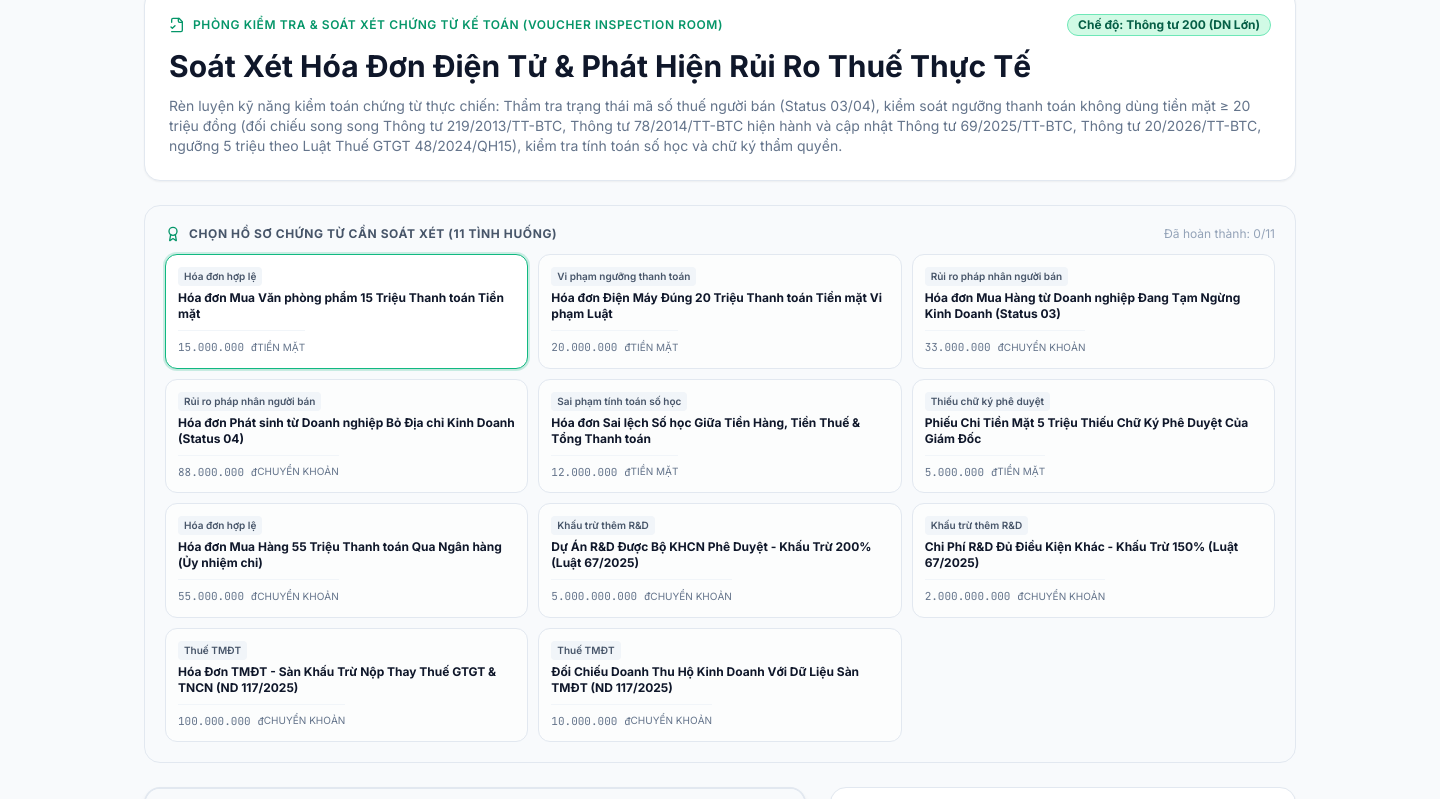
COMPREHENSIVE TAX COMPLIANCE & FRAUD GUARDRAILS (MILESTONE 5 / R5) › 5. VoucherInspector Workbench Integration › should display VAT input and CIT Schedule B4 breakdown cards upon audit completion
Click the text "Hóa đơn Điện Máy Đúng 20 Triệu": x=720, y=306 551,290 -> 889,322
(page scrolled)
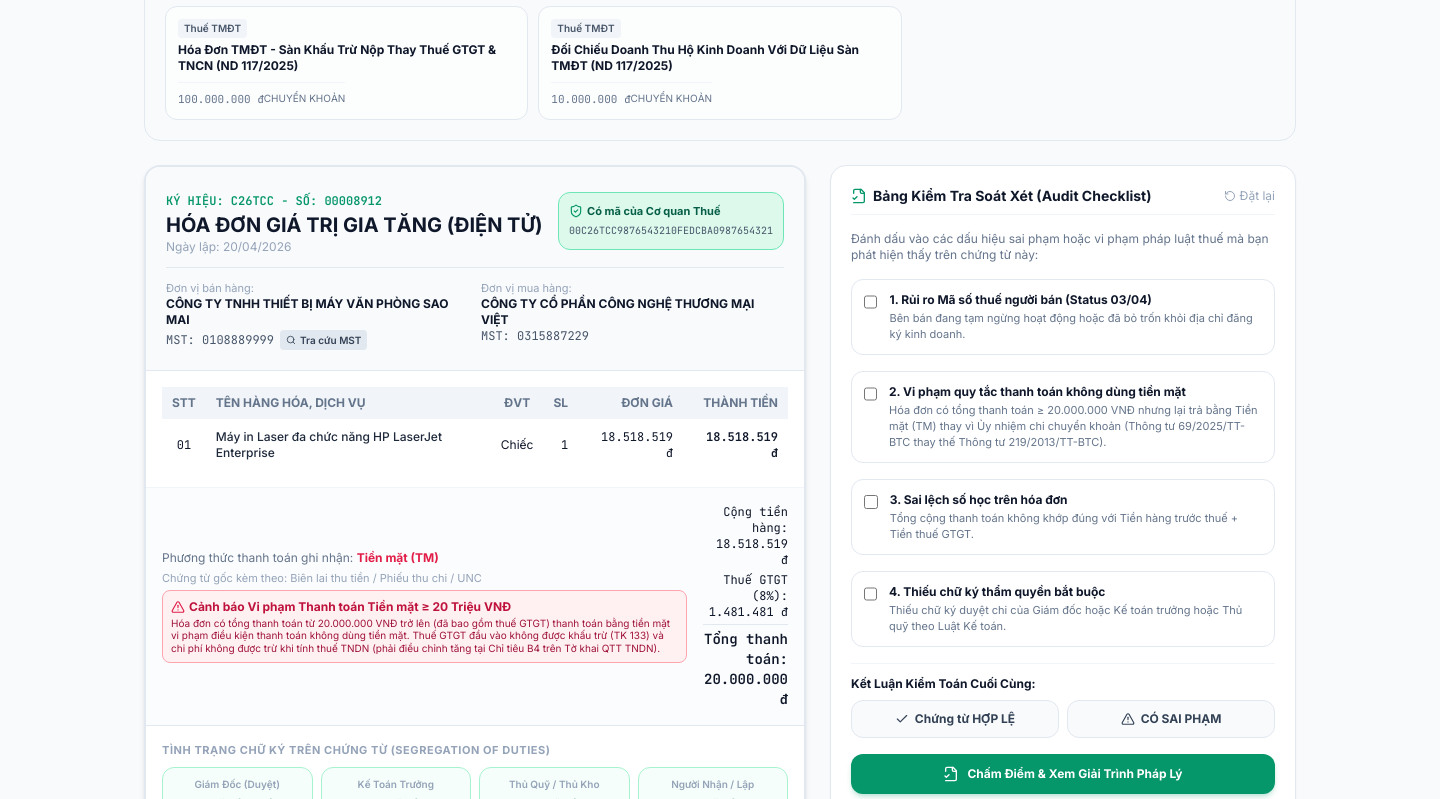
Note: Check checklist
Click the checkbox labelled "Vi phạm quy tắc thanh toán không dùng tiền mặt": x=870, y=394 864,386 -> 877,402
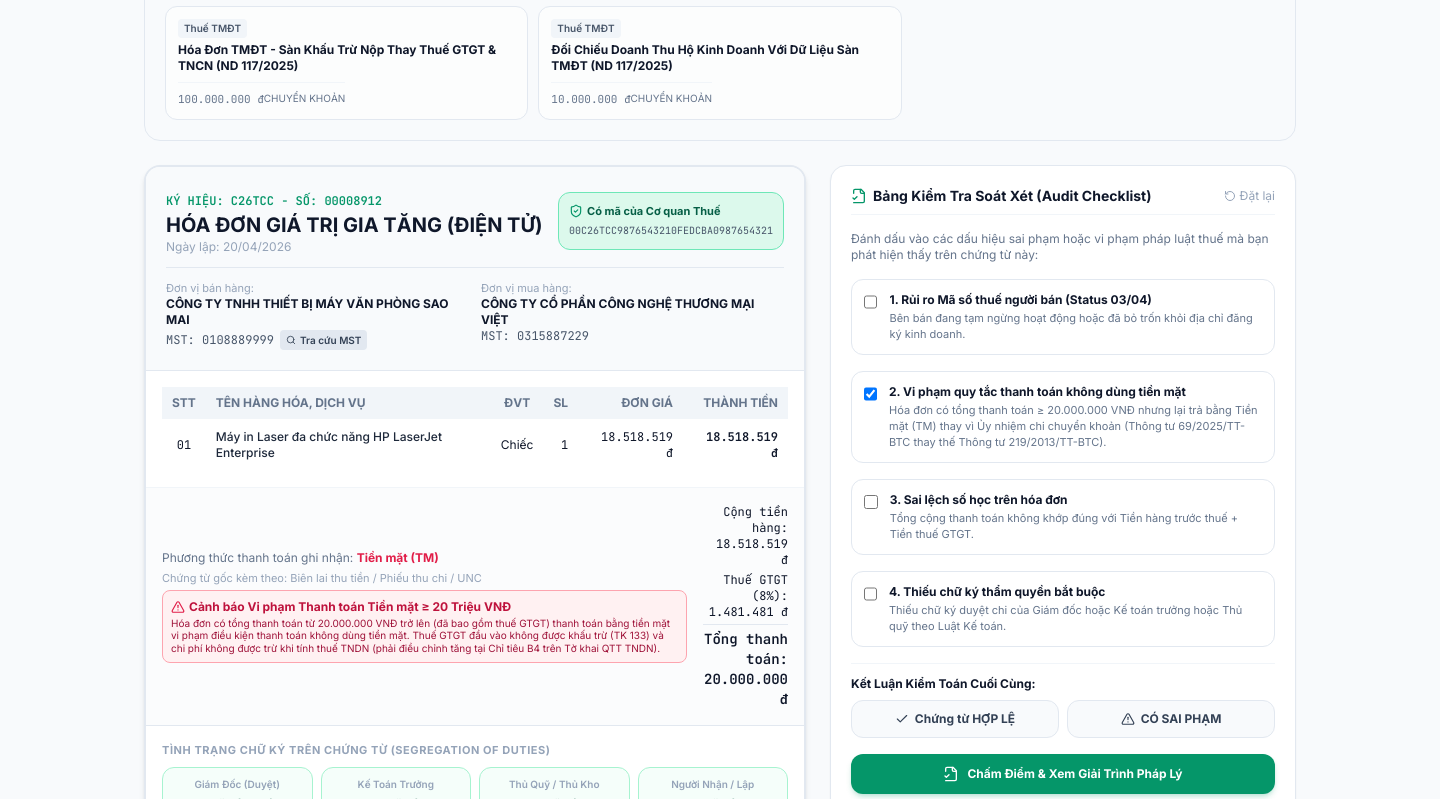
Click the button "CÓ SAI PHẠM": x=1171, y=719 1067,700 -> 1275,738
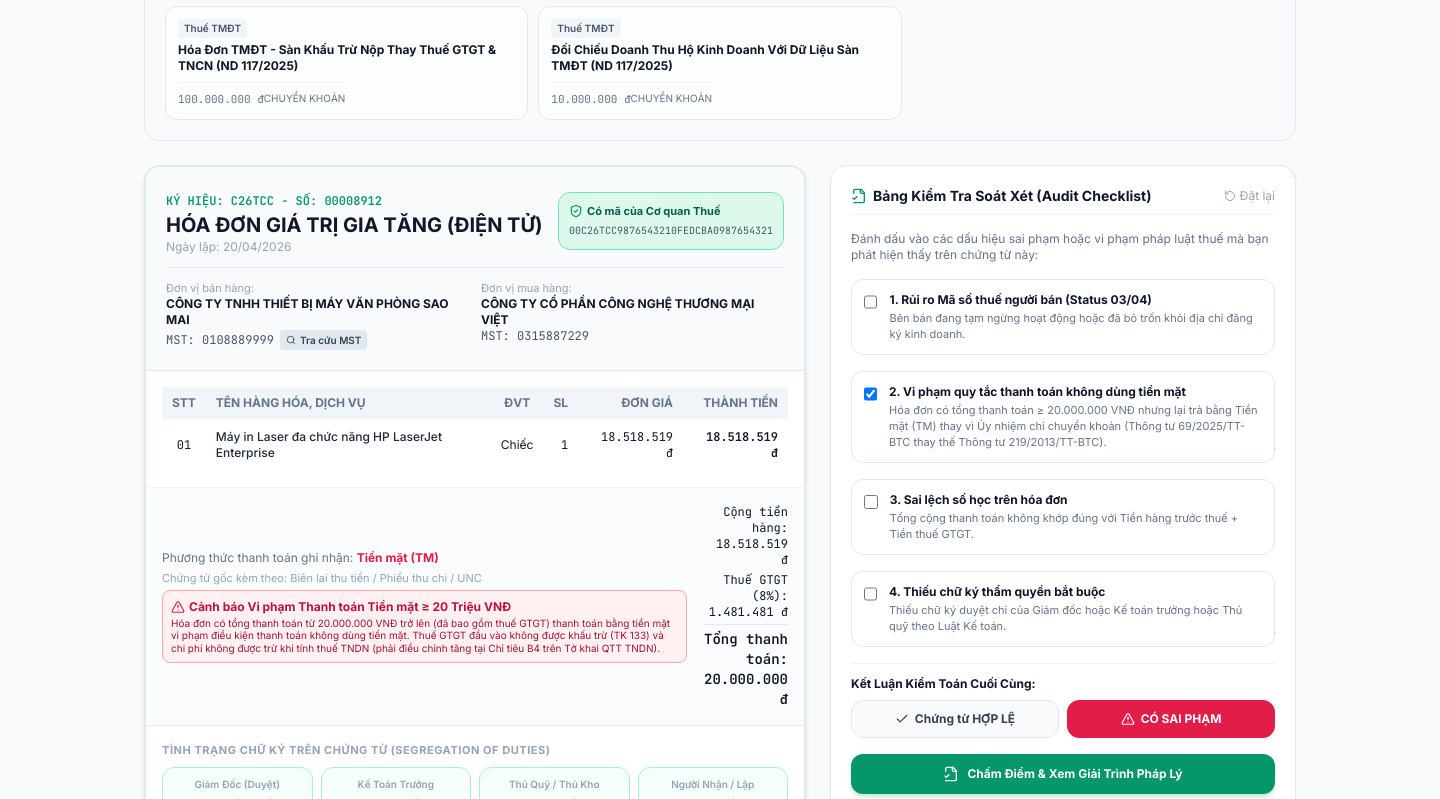
Click the button "Chấm Điểm & Xem Giải Trình Pháp Lý": x=1063, y=774 851,754 -> 1275,794
(page scrolled)
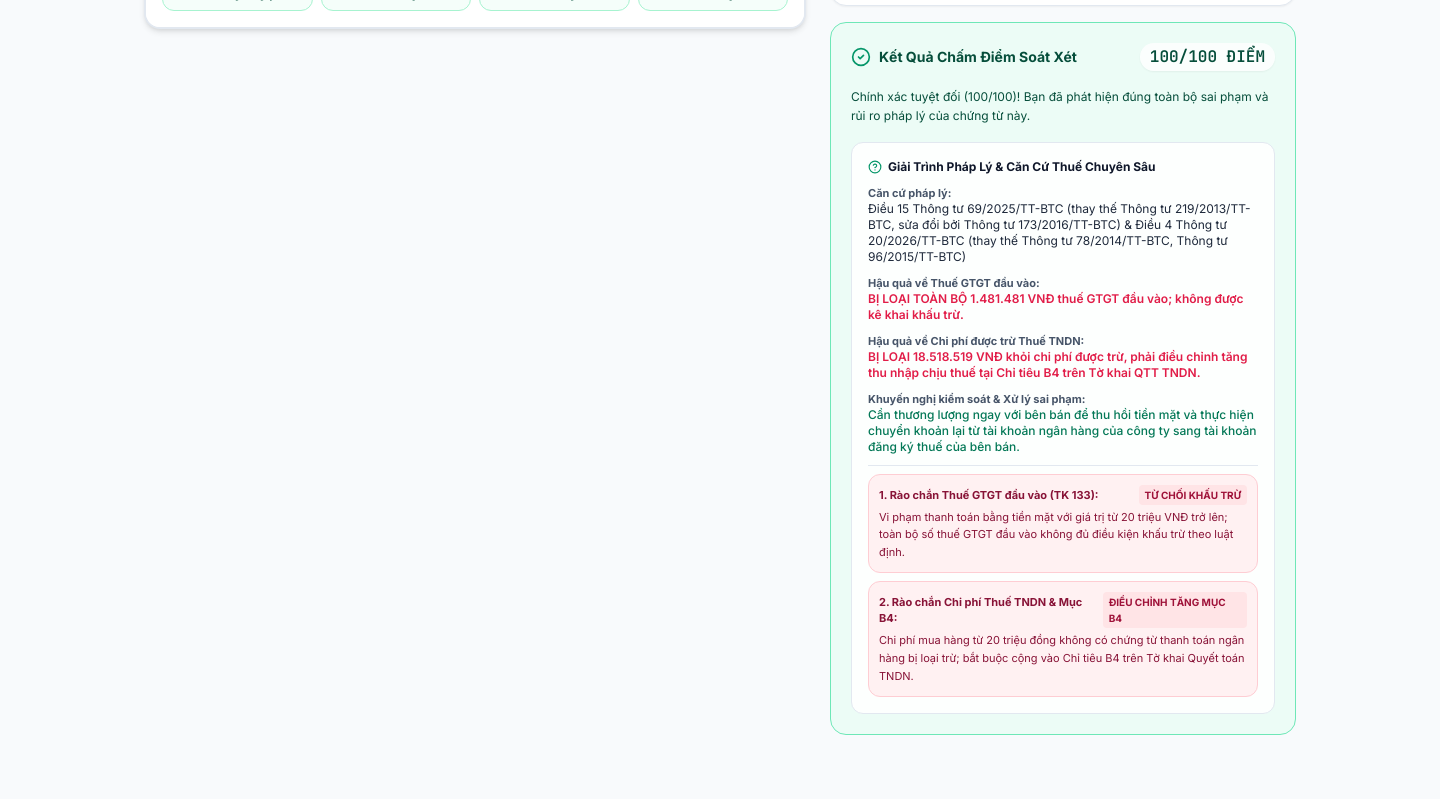
Expected: the element with test id "vat-input-consequence-card" is shown, 868,474 -> 1258,573
Expected: the element with test id "cit-deductible-consequence-card" is shown, 868,581 -> 1258,697
Expected: the text "1. Rào chắn Thuế GTGT đầu vào (TK 133):" is shown, 879,486 -> 1098,502
